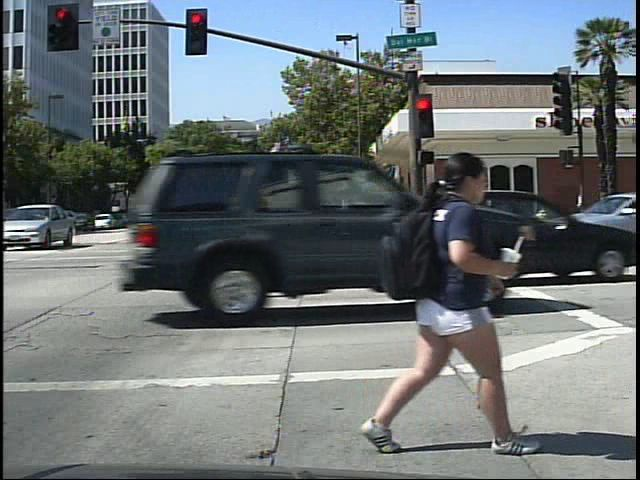person: (351, 131, 530, 458)
